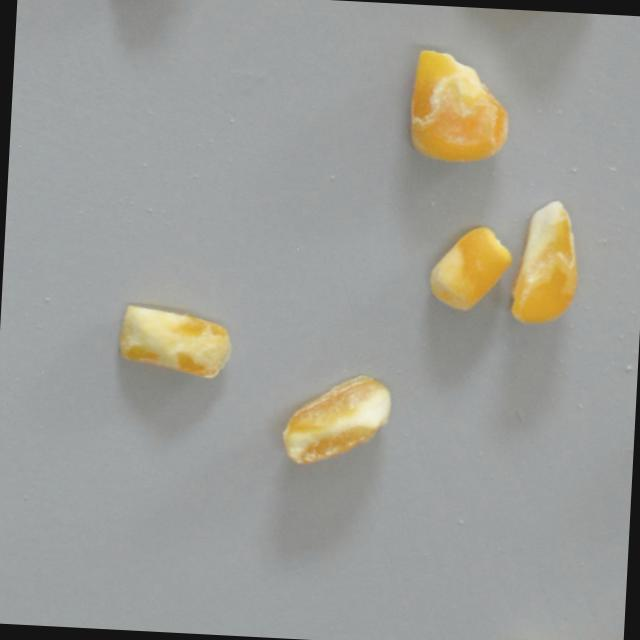dañado: (404, 43, 518, 168), (273, 367, 399, 475), (112, 300, 239, 384), (505, 197, 584, 330), (422, 222, 515, 318), (496, 631, 624, 640)
